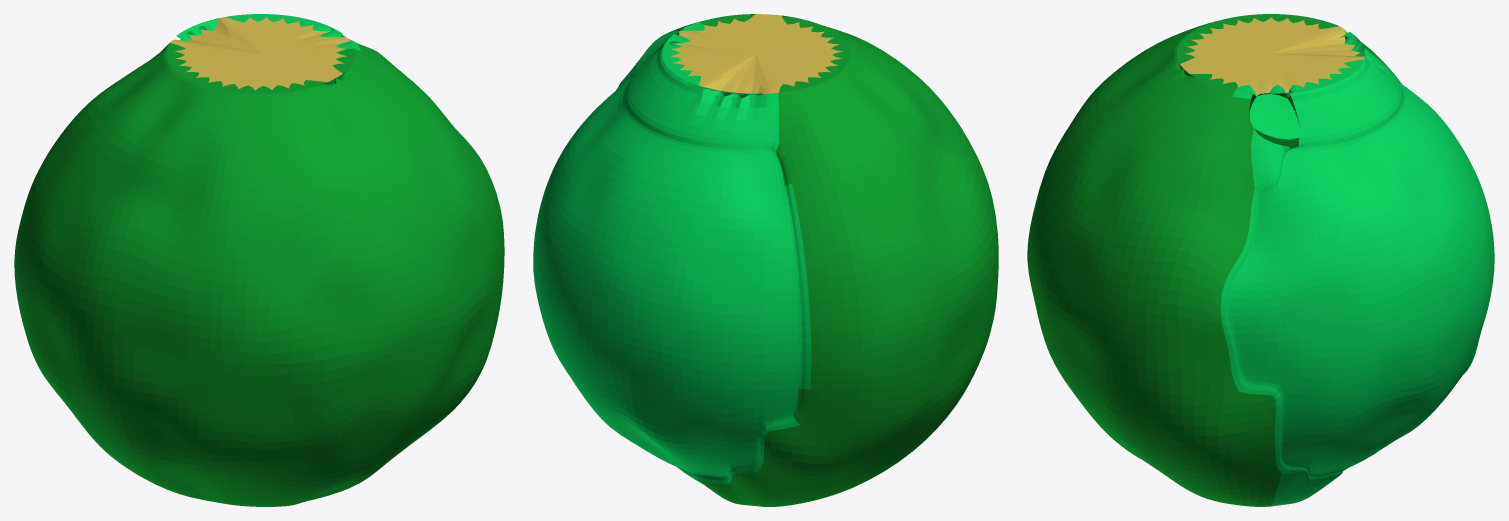
Rendered from Lettuce.fbx.
The picture shows the model from 3 angles, left to right: view 1: azimuth 30°, elevation 25°; view 2: azimuth 150°, elevation 25°; view 3: azimuth 270°, elevation 25°; orthographic projection.
Visible parts, largest first — view 1: Sphere; view 2: Sphere; view 3: Sphere.
Part boxes in pixels (bbox=[...]): Sphere: bbox=[14, 14, 504, 506]; Sphere: bbox=[533, 14, 998, 506]; Sphere: bbox=[1027, 14, 1494, 506].
Size of the model in its own units: 189 by 192 by 189.
